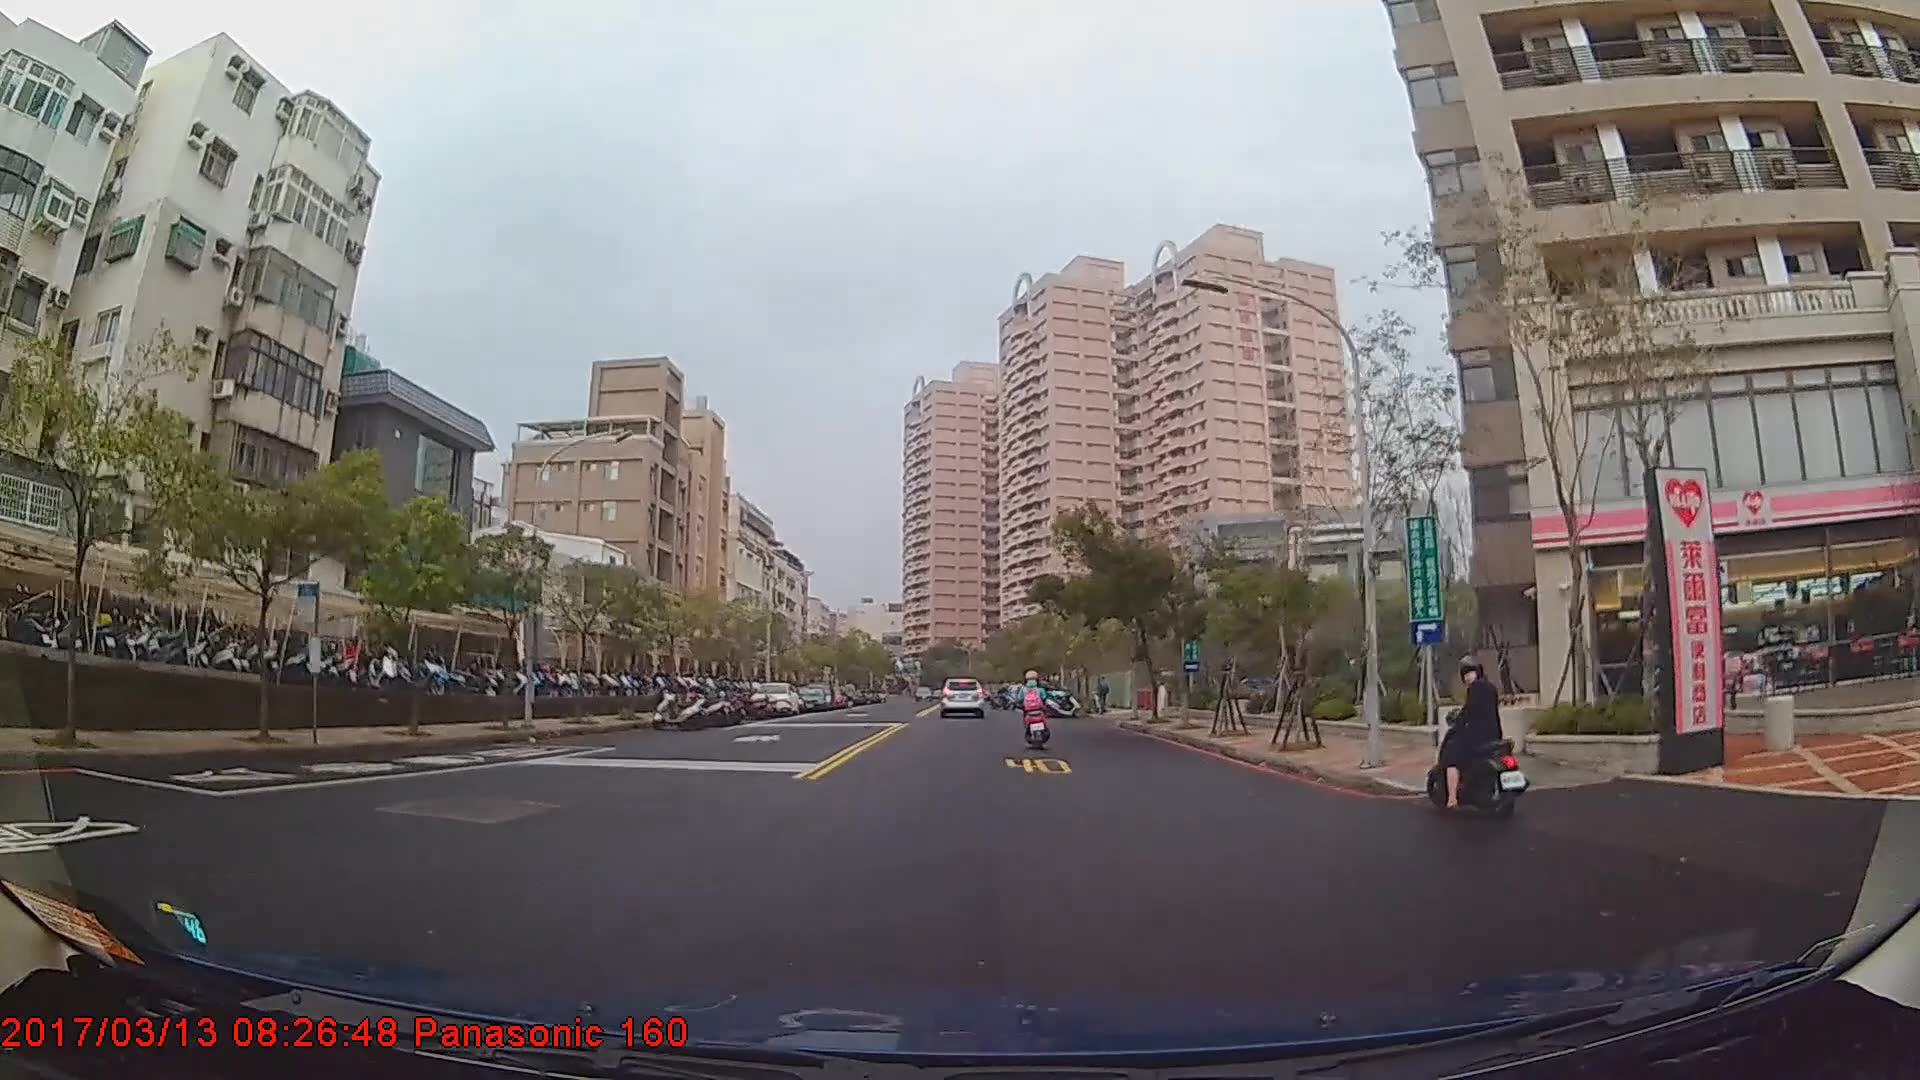rider: (1421, 655, 1536, 822), (1019, 670, 1052, 746)
vehicle: (936, 674, 987, 714), (748, 682, 801, 716)
